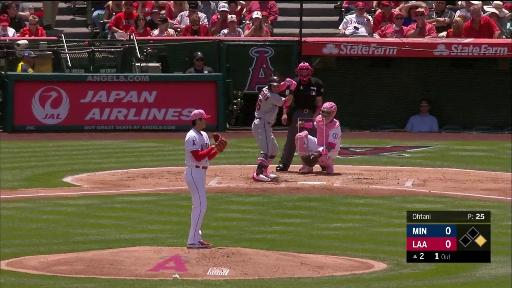pitcher: (184, 110, 227, 249)
